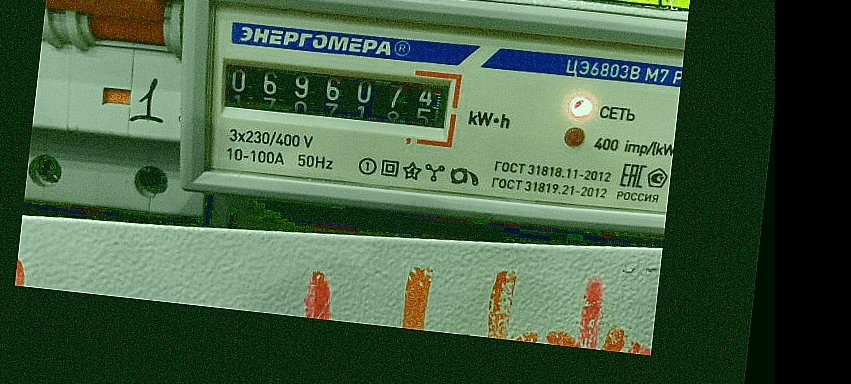0: (227, 65, 249, 92), (354, 76, 374, 104)
4: (416, 82, 434, 106)
5: (414, 105, 432, 127)
6: (322, 73, 343, 102), (259, 68, 280, 95)
7: (386, 81, 404, 108)
9: (291, 70, 310, 98)
screen: (206, 44, 466, 151)
